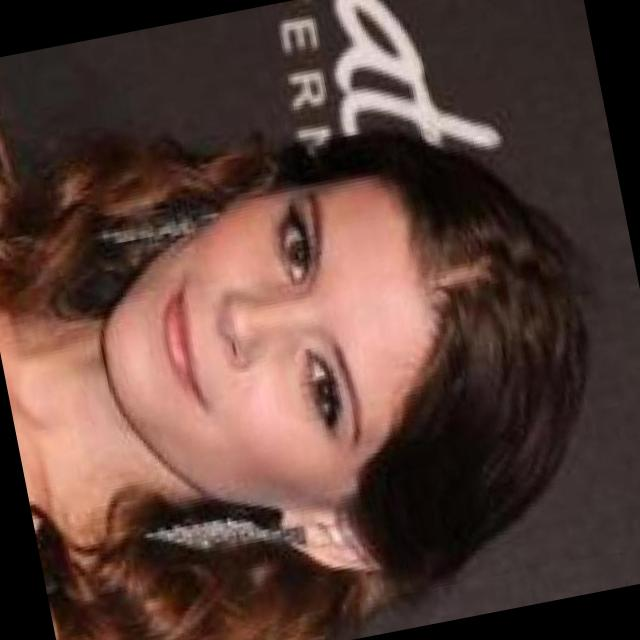bareface: (71, 149, 470, 552)
